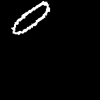chain: (12, 1, 49, 34)
